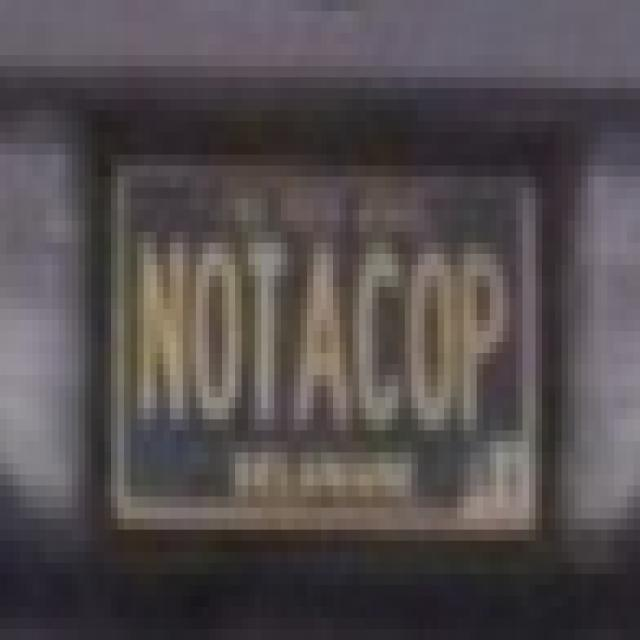0: (402, 220, 464, 469), (191, 204, 244, 440)
A: (293, 224, 355, 450)
C: (352, 222, 408, 463)
N: (128, 211, 192, 431)
P: (457, 217, 515, 453)
T: (242, 218, 290, 460)
